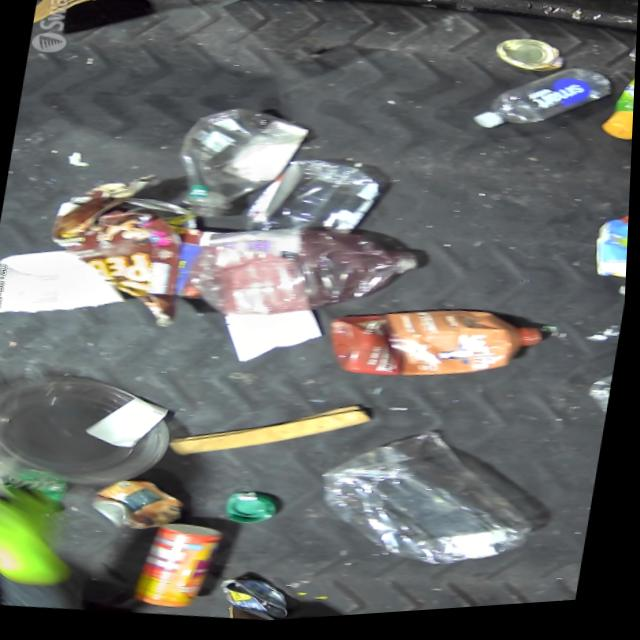can: (135, 517, 232, 617), (88, 471, 194, 541), (218, 573, 300, 626), (491, 37, 571, 84)
non_white_jug: (322, 294, 551, 401)
plastic_bottle: (471, 61, 617, 150)
